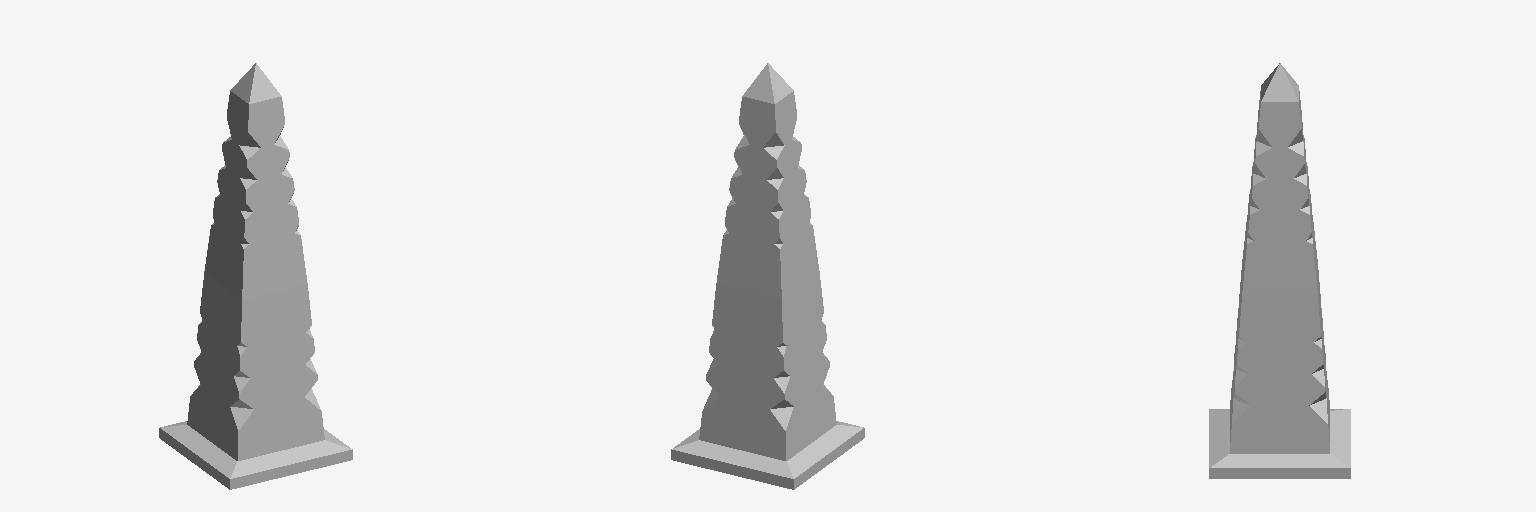
File: obeliskDark.obj
3 views of the same model, side by side, from view 1: azimuth 30°, elevation 25°; view 2: azimuth 150°, elevation 25°; view 3: azimuth 270°, elevation 25° (orthographic).
Visible parts, largest first — view 1: Cube.001_Cube; view 2: Cube.001_Cube; view 3: Cube.001_Cube.
Part boxes in pixels (x1,y1,x2,y2): Cube.001_Cube: (159, 63, 352, 489); Cube.001_Cube: (671, 63, 864, 489); Cube.001_Cube: (1209, 63, 1350, 478).
Size of the model in its own units: 1.25 by 3.77 by 1.25.